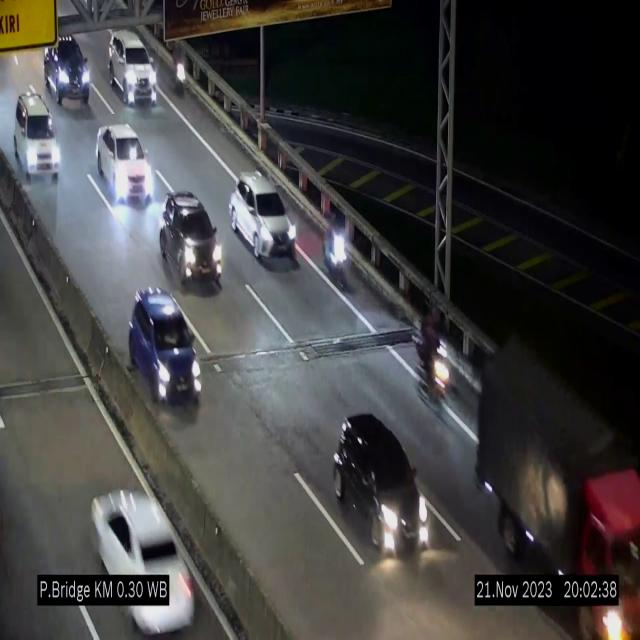Car: (87, 429, 211, 640), (339, 414, 433, 556), (128, 288, 202, 404), (156, 187, 222, 297), (229, 172, 297, 262), (15, 95, 71, 189), (97, 124, 151, 204), (108, 29, 158, 104), (44, 33, 90, 107)
Motorcycle: (417, 302, 452, 406), (325, 216, 349, 295), (168, 42, 188, 102)
Truck: (476, 328, 640, 640)
